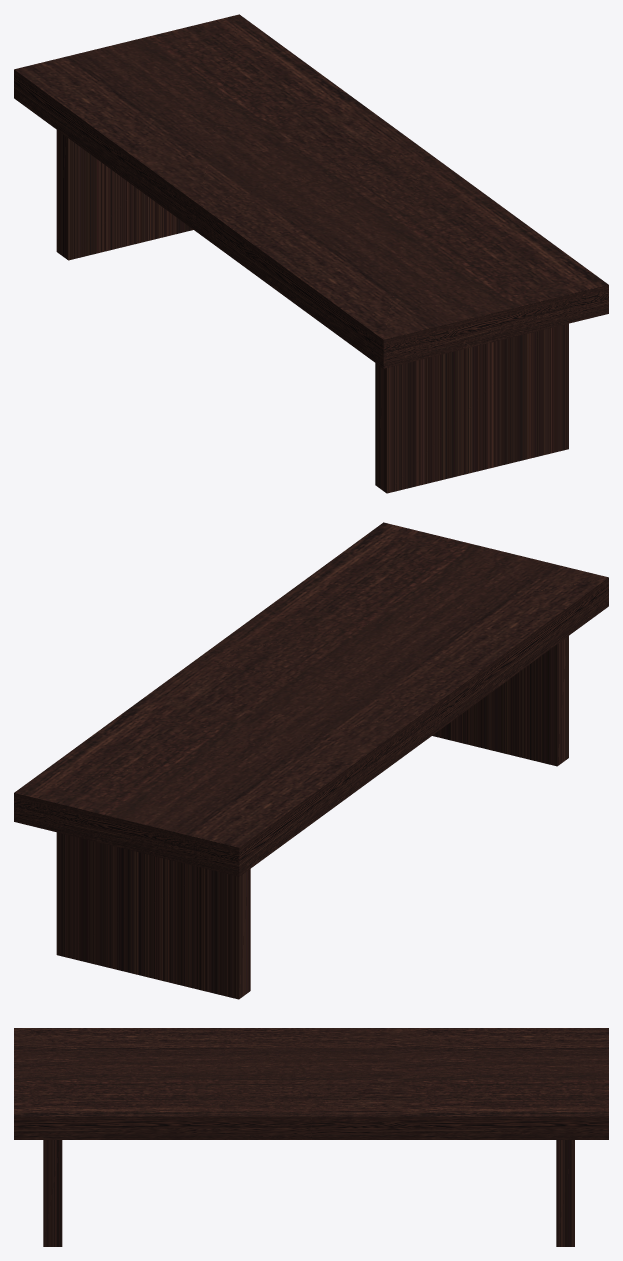
File: Object_Bench_DarkBrownWoodPlain.glb
The picture shows the model from 3 angles, top to bottom: view 1: azimuth 30°, elevation 25°; view 2: azimuth 150°, elevation 25°; view 3: azimuth 270°, elevation 25°; orthographic projection. The views are drawn at different scales.
Parts seen in each view (by area): view 1: Bench 1.001; view 2: Bench 1.001; view 3: Bench 1.001.
Part boxes in pixels (x1,y1,x2,y2): Bench 1.001: (14, 14, 608, 493); Bench 1.001: (14, 522, 608, 999); Bench 1.001: (14, 1028, 608, 1246).
Size of the model in its own units: 1.79 by 1.31 by 5.09.
1 material, 1 textured.
